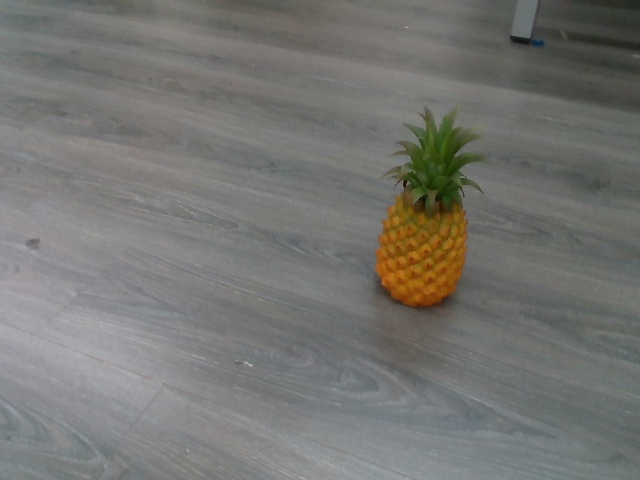pineapple: (369, 100, 491, 313)
